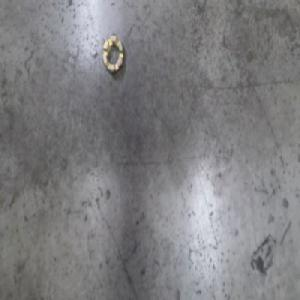Nut: (100, 32, 125, 75)
